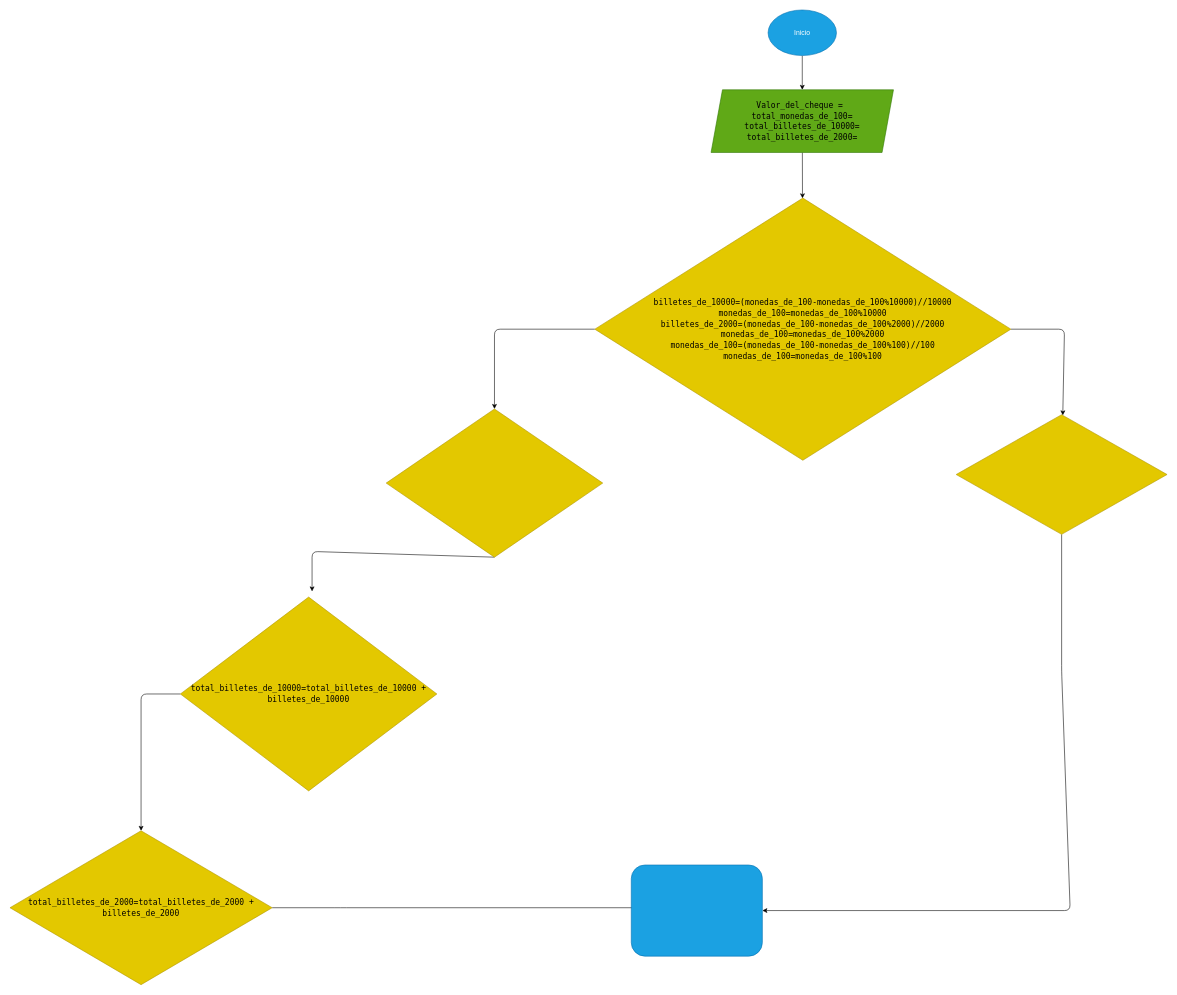
Some shapes in this 1177 by 995 pixel diagram are drawn without their labels. The shapes that lost their labels are listed below. From the top down, each one's centre as x and y in pixels, then its label:
At (494,482): "total_monedas_de_100 = total_monedas_de_100 + monedas_de_100".
At (1061,474): "valor del cheque".
At (696,910): "FIN".
